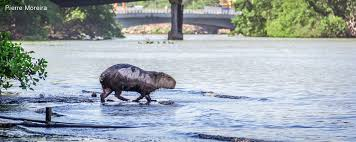capivara: (98, 62, 176, 108)
